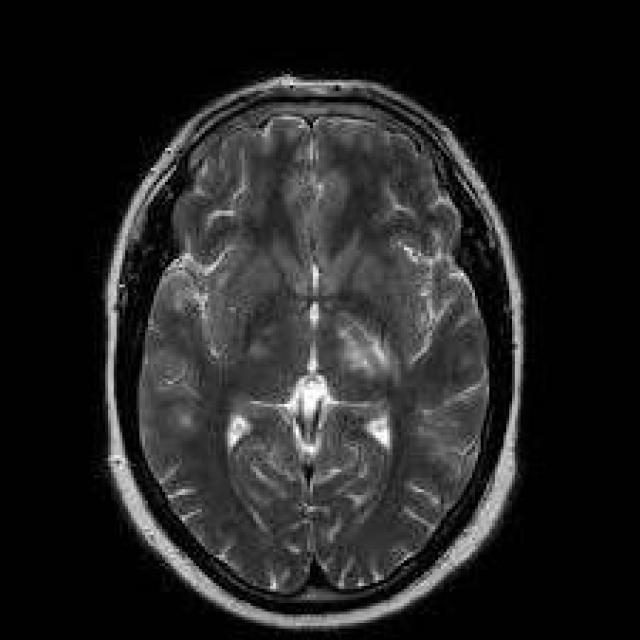no-tumor: (174, 193, 458, 552)
